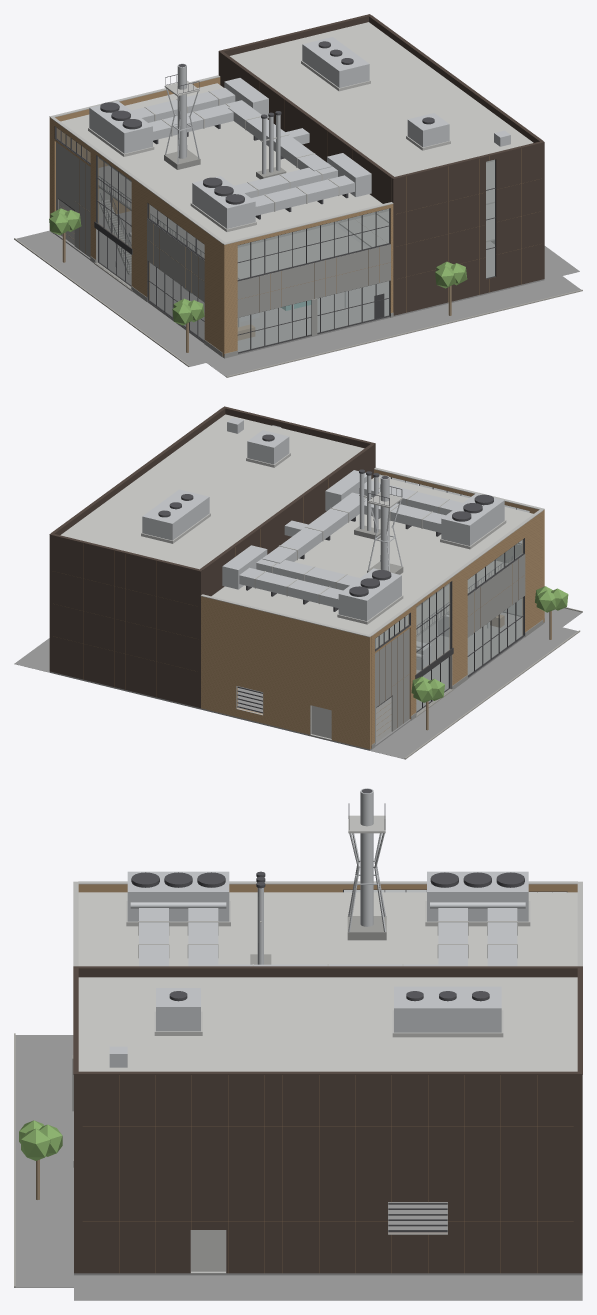
The model's file is clay-energy-centre-clay-v007.glb.
3 renders of one model, top to bottom at view 1: azimuth 30°, elevation 25°; view 2: azimuth 150°, elevation 25°; view 3: azimuth 270°, elevation 25°, orthographic. The views are drawn at different scales.
Parts seen in each view (by area): view 1: CLAY_MEMBRANE, CLAY_CORTEN, CLAY_FOUNDATION, CLAY_STEEL, CLAY_GLASS, CLAY_CONCRETE, CLAY_WALL, CLAY_FLOOR, CLAY_TRIM, CLAY_PALE, CLAY_HARDWARE, CLAY_JOINT (+3 smaller); view 2: CLAY_MEMBRANE, CLAY_CORTEN, CLAY_WALL, CLAY_STEEL, CLAY_FOUNDATION, CLAY_CONCRETE, CLAY_GLASS, CLAY_PALE, CLAY_JOINT, CLAY_TRIM, CLAY_HARDWARE, CLAY_FLOOR (+2 smaller); view 3: CLAY_CORTEN, CLAY_MEMBRANE, CLAY_FOUNDATION, CLAY_STEEL, CLAY_PALE, CLAY_HARDWARE, CLAY_JOINT, CLAY_WALL, CLAY_PLANTING, CLAY_CONCRETE.
Boxes of the visible parts, x1=… form: CLAY_MEMBRANE: x1=60, y1=22, x2=533, y2=242; CLAY_CORTEN: x1=218, y1=14, x2=544, y2=315; CLAY_FOUNDATION: x1=16, y1=211, x2=580, y2=377; CLAY_STEEL: x1=89, y1=37, x2=510, y2=327; CLAY_GLASS: x1=56, y1=128, x2=494, y2=351; CLAY_CONCRETE: x1=51, y1=142, x2=393, y2=358; CLAY_WALL: x1=49, y1=77, x2=393, y2=356; CLAY_FLOOR: x1=98, y1=157, x2=494, y2=279; CLAY_TRIM: x1=54, y1=126, x2=495, y2=353; CLAY_PALE: x1=49, y1=60, x2=494, y2=274; CLAY_HARDWARE: x1=99, y1=41, x2=434, y2=279; CLAY_JOINT: x1=51, y1=82, x2=535, y2=351; CLAY_MEMBRANE: x1=60, y1=414, x2=533, y2=634; CLAY_CORTEN: x1=49, y1=406, x2=375, y2=708; CLAY_WALL: x1=201, y1=469, x2=544, y2=749; CLAY_STEEL: x1=142, y1=417, x2=504, y2=670; CLAY_FOUNDATION: x1=14, y1=599, x2=581, y2=759; CLAY_CONCRETE: x1=354, y1=525, x2=544, y2=749; CLAY_GLASS: x1=272, y1=425, x2=529, y2=711; CLAY_PALE: x1=141, y1=453, x2=544, y2=742; CLAY_JOINT: x1=53, y1=478, x2=542, y2=747; CLAY_TRIM: x1=271, y1=424, x2=524, y2=712; CLAY_HARDWARE: x1=158, y1=434, x2=512, y2=713; CLAY_FLOOR: x1=211, y1=560, x2=507, y2=648; CLAY_CORTEN: x1=73, y1=966, x2=582, y2=1273; CLAY_MEMBRANE: x1=78, y1=892, x2=577, y2=1071; CLAY_FOUNDATION: x1=14, y1=1035, x2=582, y2=1300; CLAY_STEEL: x1=109, y1=788, x2=528, y2=1067; CLAY_PALE: x1=73, y1=815, x2=582, y2=1273; CLAY_HARDWARE: x1=131, y1=789, x2=524, y2=1231; CLAY_JOINT: x1=83, y1=1075, x2=573, y2=1272; CLAY_WALL: x1=78, y1=884, x2=577, y2=892; CLAY_PLANTING: x1=19, y1=1120, x2=62, y2=1160; CLAY_CONCRETE: x1=72, y1=916, x2=386, y2=1167.
Size of the model in its own units: 44.1 by 22 by 38.03.
